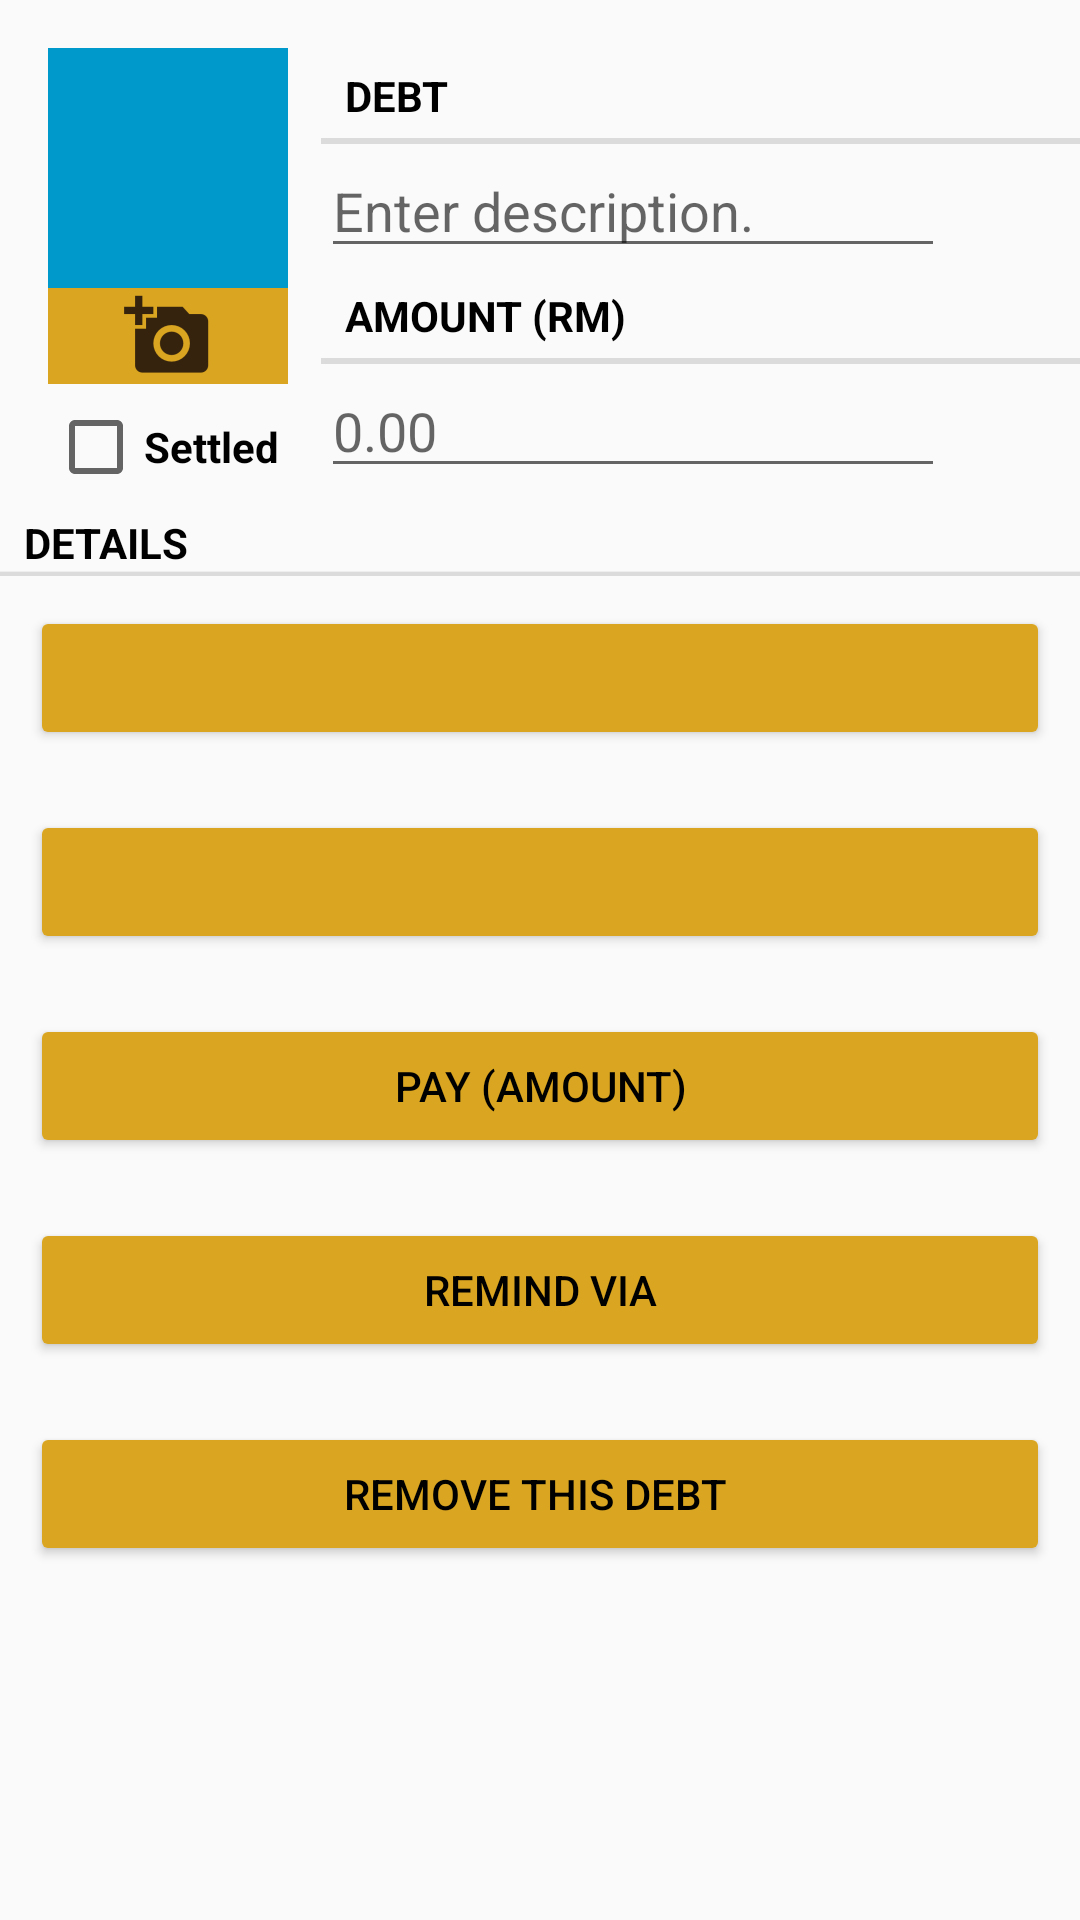

Icon bounding boxes for this 1080x1920 phone screenshot, format (x1, y1, x2, y2):
camera: (48, 288, 288, 384)
